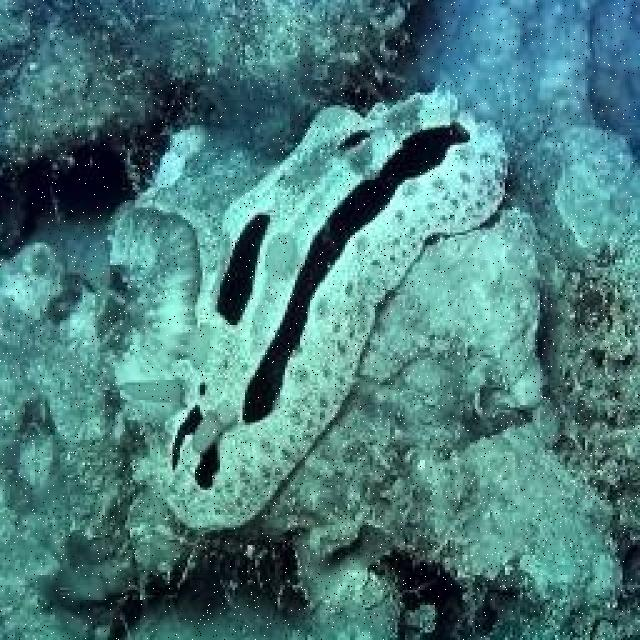reefs: (114, 83, 510, 534)
